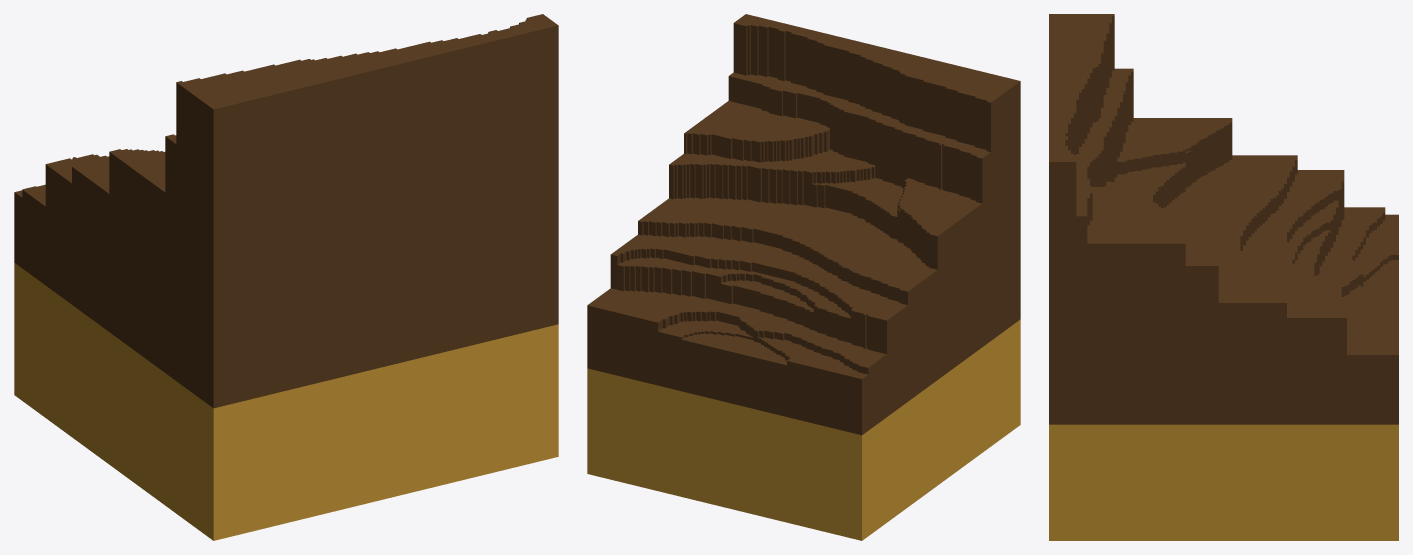
3 views of the same model, side by side, from view 1: azimuth 30°, elevation 25°; view 2: azimuth 150°, elevation 25°; view 3: azimuth 270°, elevation 25° (orthographic). The views are drawn at different scales.
Parts seen in each view (by area): view 1: 11P; view 2: 11P; view 3: 11P.
Boxes of the visible parts, bbox=[...] form: 11P: bbox=[14, 14, 558, 540]; 11P: bbox=[587, 14, 1020, 540]; 11P: bbox=[1049, 14, 1398, 540].
Bounding box in the file's own units: 12.8 × 15.3 × 12.8.
1 material, 1 textured.
